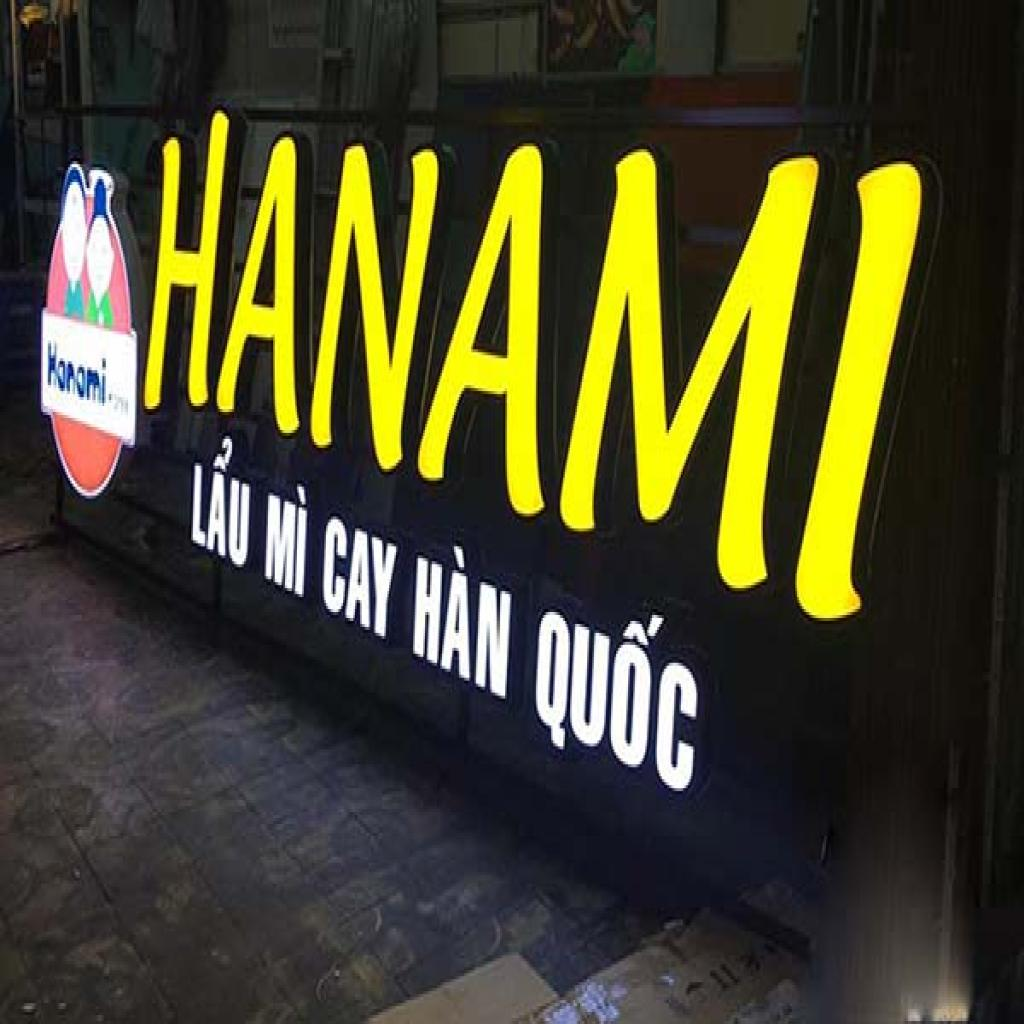text: (138, 90, 975, 666), (526, 567, 710, 818), (411, 520, 517, 708), (319, 507, 403, 648), (188, 418, 258, 579), (263, 472, 317, 606), (46, 334, 118, 412)
